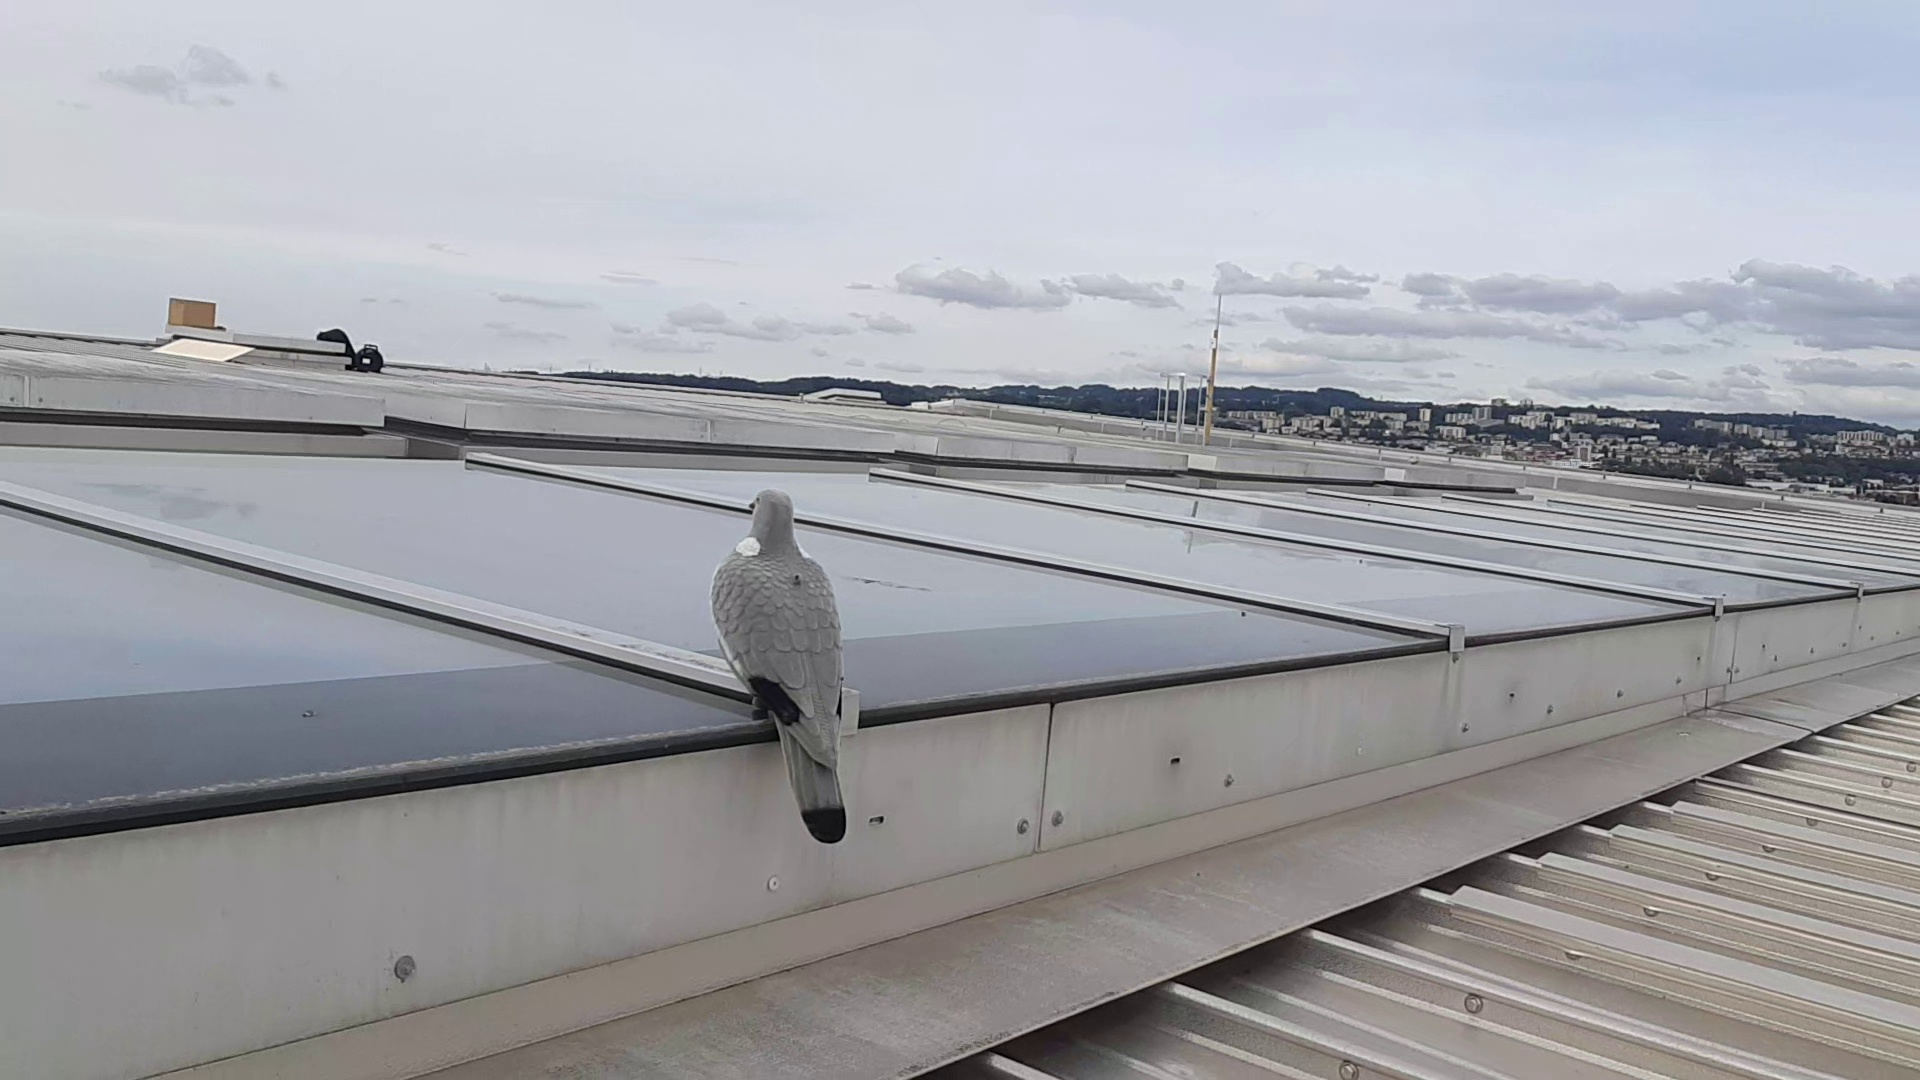Pigeon: (709, 484, 853, 851)
